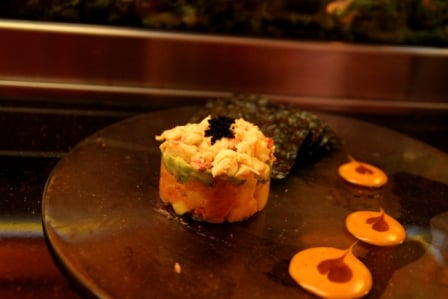sushi: (156, 112, 275, 223)
